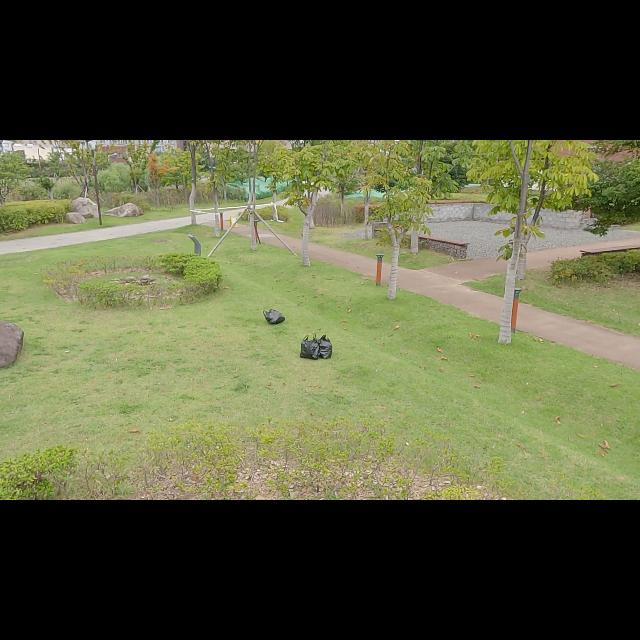trash: (300, 336, 320, 360), (313, 335, 333, 359), (262, 308, 286, 324)
